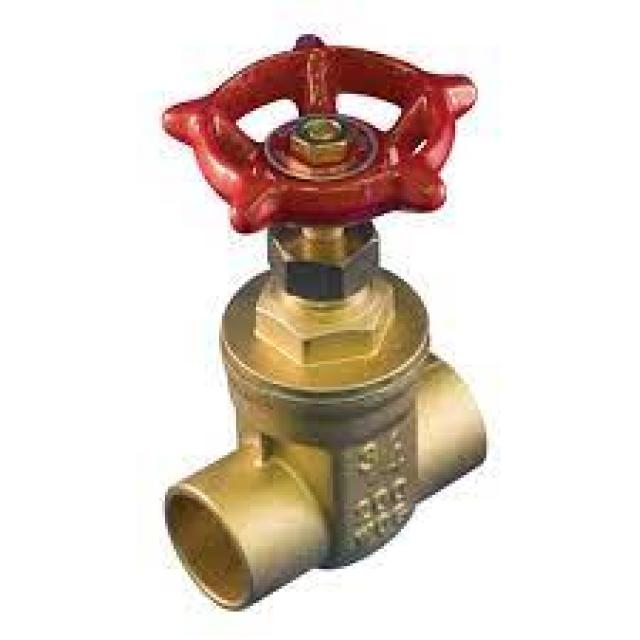Wheel Handle Valve Threaded: (157, 26, 495, 243)
